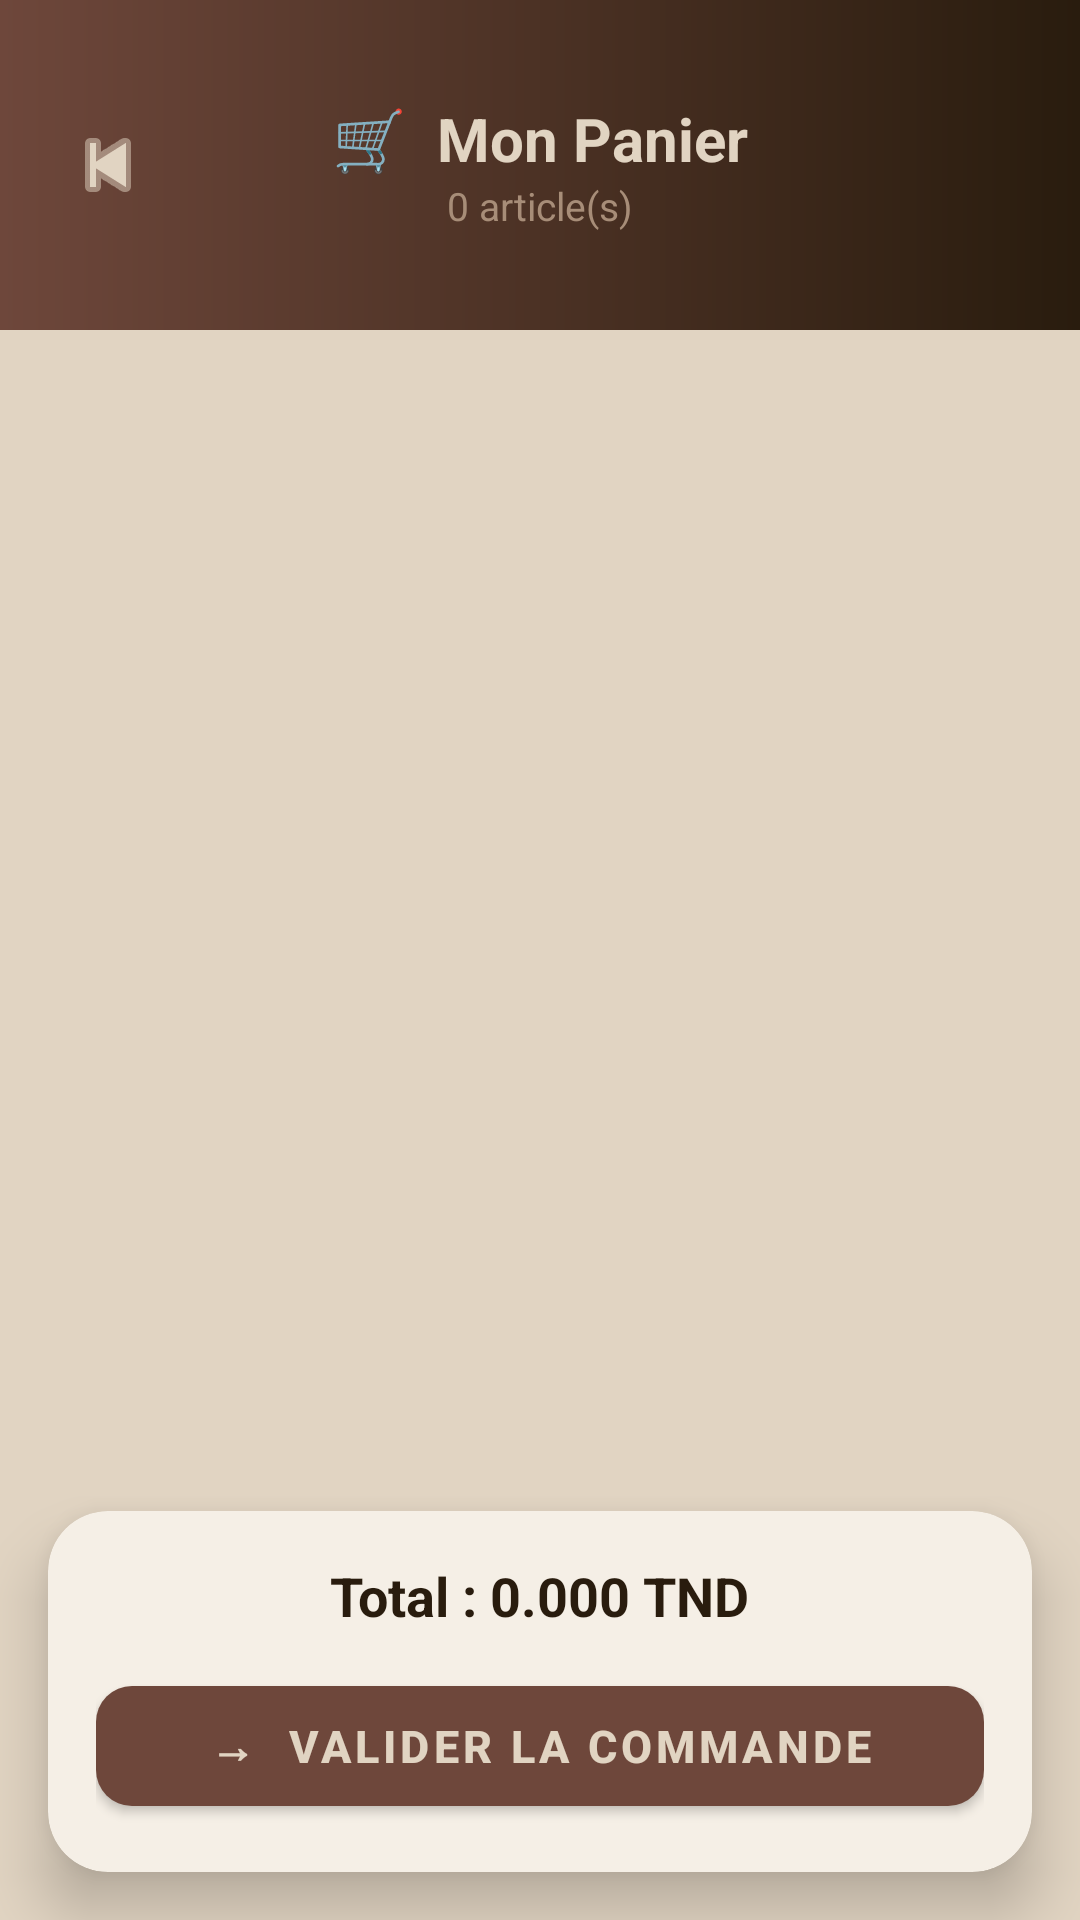

Where icons sit on this 1080px×1920px app screen, as (x1, y1, x2, y2):
previous: (85, 138, 131, 192)
